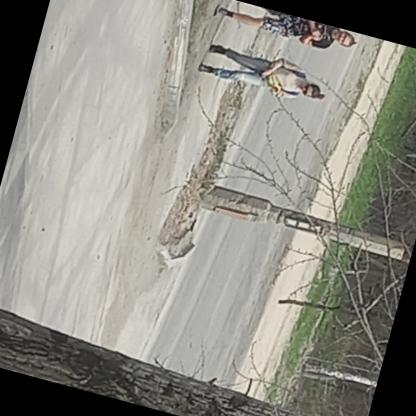Human Body: (196, 39, 327, 106), (210, 0, 356, 56)
